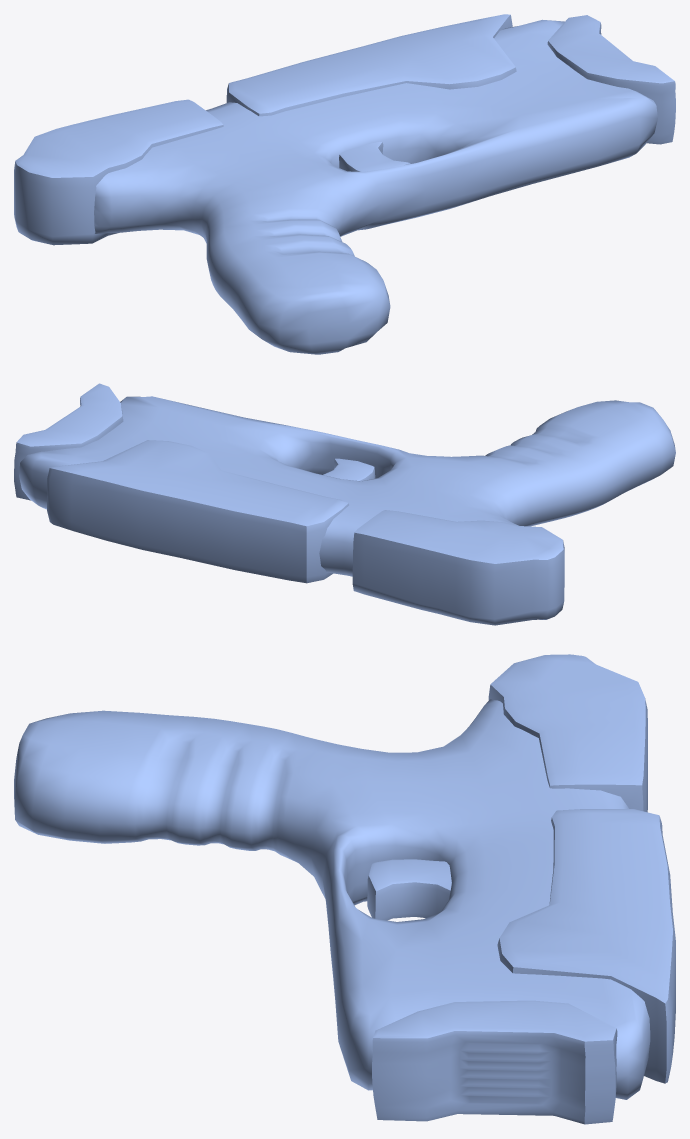
File: Taser (1).fbx
3 views of the same model, one above another, from view 1: azimuth 30°, elevation 25°; view 2: azimuth 150°, elevation 25°; view 3: azimuth 270°, elevation 25° (orthographic). The views are drawn at different scales.
Parts seen in each view (by area): view 1: Object001; view 2: Object001; view 3: Object001.
Part boxes in pixels (box(x1,y1,x2,y2)): Object001: box(14, 14, 675, 354); Object001: box(14, 383, 675, 625); Object001: box(14, 654, 675, 1124).
Bounding box in the file's own units: 196 × 22.92 × 143.
